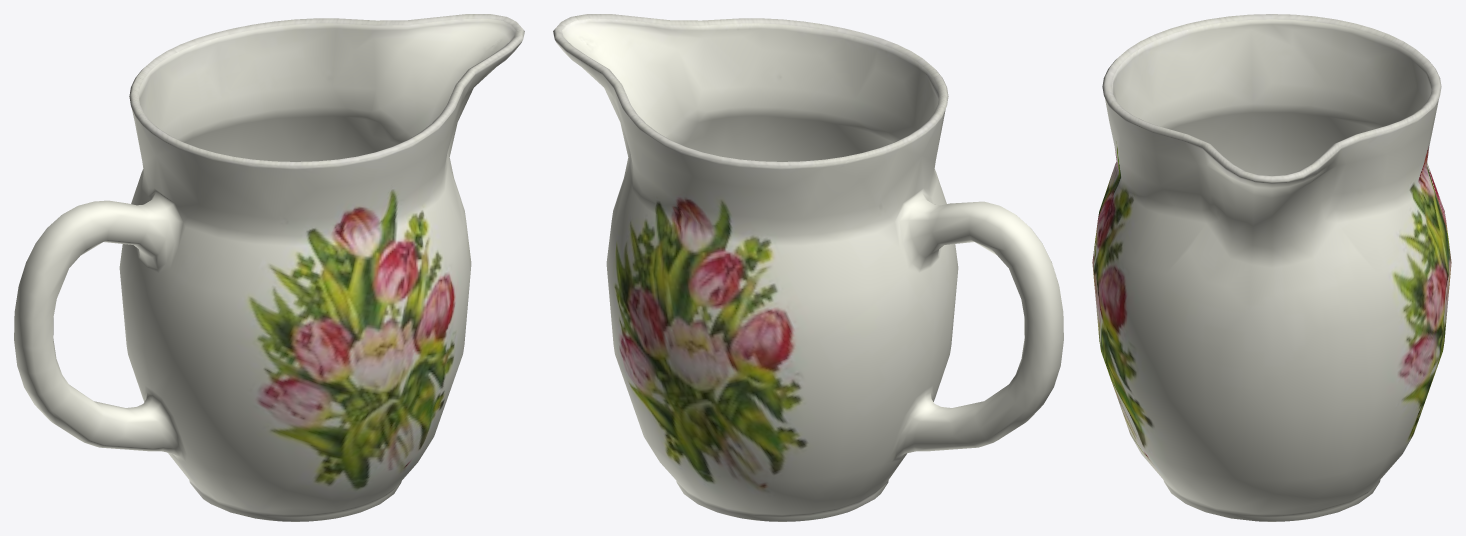
The model's file is jug_01.glb.
The picture shows the model from 3 angles, left to right: view 1: azimuth 30°, elevation 25°; view 2: azimuth 150°, elevation 25°; view 3: azimuth 270°, elevation 25°; orthographic projection. The views are drawn at different scales.
Visible parts, largest first — view 1: body; view 2: body; view 3: body.
Boxes of the visible parts, x1,y1,x2,y2 form: body: (14,14,524,521); body: (553,14,1063,521); body: (1092,14,1451,521).
Bounding box in the file's own units: 0.275 × 0.2113 × 0.1675.
1 material, 1 textured.
